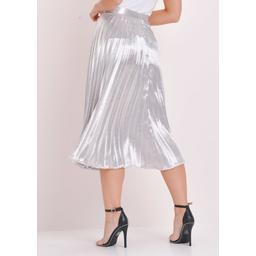skirt: (74, 8, 186, 172)
